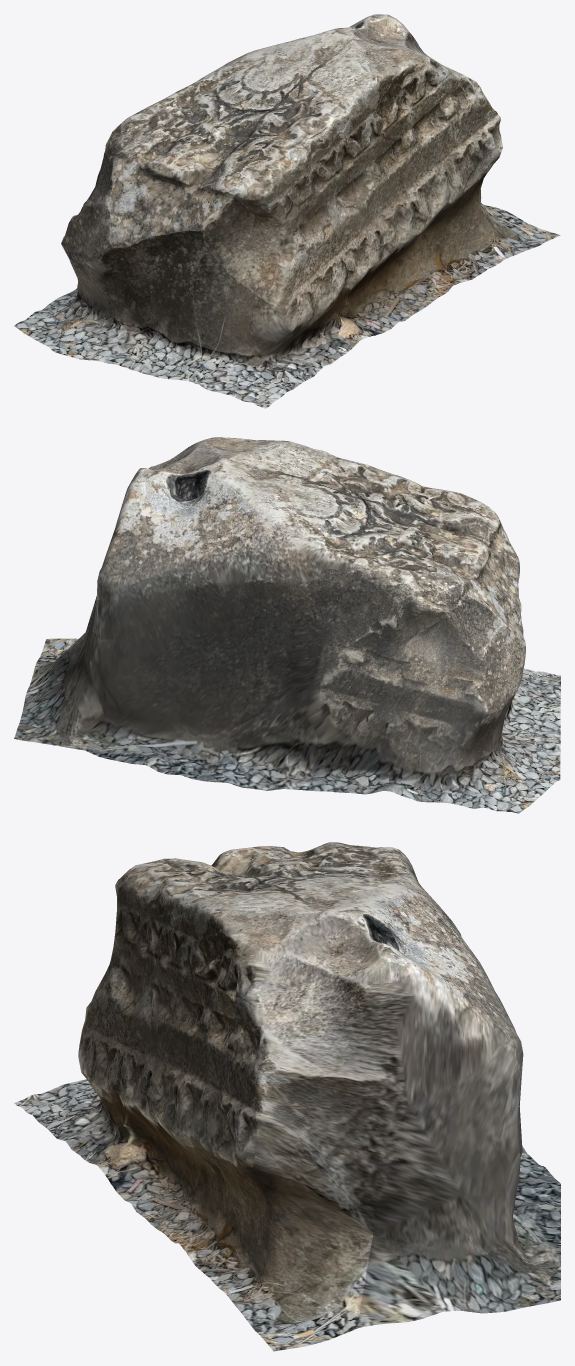
The model's file is carved-architectural-block-with-laurel-motifs.glb.
3 views of the same model, one above another, from view 1: azimuth 30°, elevation 25°; view 2: azimuth 150°, elevation 25°; view 3: azimuth 270°, elevation 25° (orthographic). The views are drawn at different scales.
Parts seen in each view (by area): view 1: Object_2; view 2: Object_2; view 3: Object_2.
Boxes of the visible parts, x1=… form: Object_2: x1=14, y1=14, x2=560, y2=408; Object_2: x1=14, y1=437, x2=560, y2=813; Object_2: x1=14, y1=842, x2=560, y2=1351.
Bounding box in the file's own units: 0.9876 × 0.4529 × 0.6898.
Materials: 1 (1 with a texture image).
